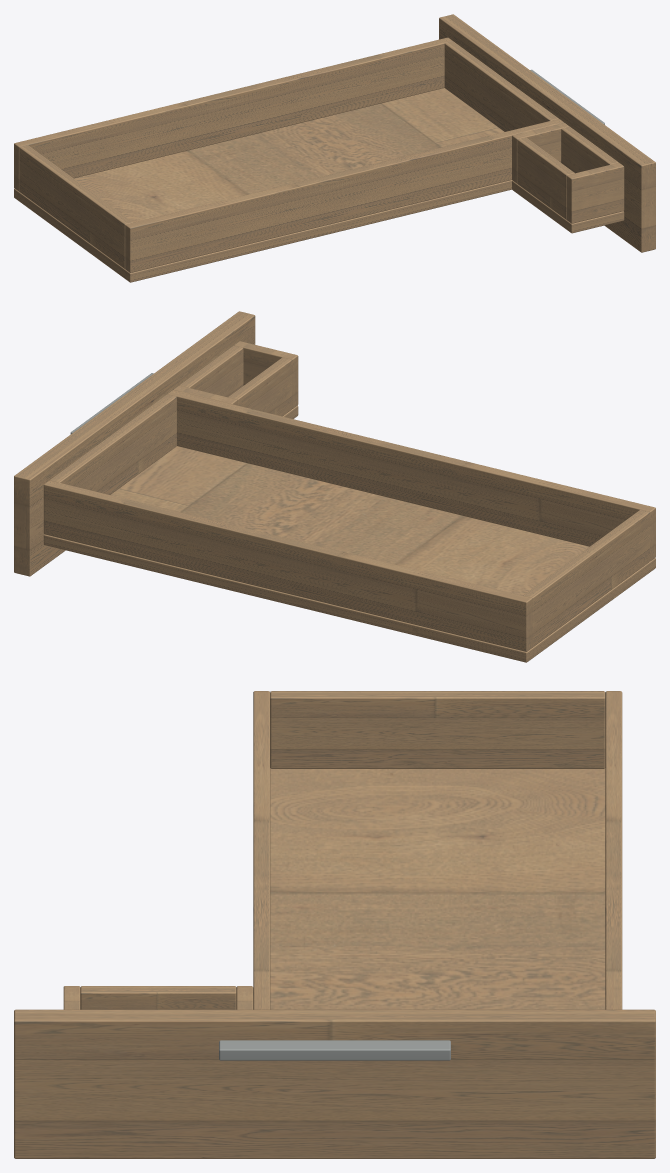
The model's file is kitchen_drawer_2_2.glb.
The picture shows the model from 3 angles, top to bottom: view 1: azimuth 30°, elevation 25°; view 2: azimuth 150°, elevation 25°; view 3: azimuth 270°, elevation 25°; orthographic projection. The views are drawn at different scales.
Parts seen in each view (by area): view 1: kitchen_drawer_2_2, kitchen_drawer_2_2_bin_0_floor, kitchen_drawer_2_2_bin_0_side_-1, kitchen_drawer_2_2_front, kitchen_drawer_2_2_bin_0_end_-1, kitchen_drawer_2_2_bin_1_side_-1, kitchen_drawer_2_2_bin_1_end_-1, kitchen_drawer_2_2_bin_1_floor; view 2: kitchen_drawer_2_2, kitchen_drawer_2_2_bin_0_floor, kitchen_drawer_2_2_bin_0_side_-1, kitchen_drawer_2_2_front, kitchen_drawer_2_2_bin_0_end_-1, kitchen_drawer_2_2_bin_1_end_-1, kitchen_drawer_2_2_bin_1_side_-1; view 3: kitchen_drawer_2_2_front, kitchen_drawer_2_2_bin_0_floor, kitchen_drawer_2_2_bin_0_end_-1, kitchen_drawer_2_2, kitchen_drawer_2_2_bin_0_side_-1, kitchen_drawer_2_2_pull, kitchen_drawer_2_2_bin_1_end_-1.
Boxes of the visible parts, x1,y1,x2,y2 form: kitchen_drawer_2_2: [14, 37, 618, 191]; kitchen_drawer_2_2_bin_0_floor: [14, 88, 512, 282]; kitchen_drawer_2_2_bin_0_side_-1: [125, 119, 563, 272]; kitchen_drawer_2_2_front: [439, 14, 655, 252]; kitchen_drawer_2_2_bin_0_end_-1: [19, 145, 133, 268]; kitchen_drawer_2_2_bin_1_side_-1: [566, 162, 624, 223]; kitchen_drawer_2_2_bin_1_end_-1: [517, 137, 574, 219]; kitchen_drawer_2_2_bin_1_floor: [512, 180, 624, 233]; kitchen_drawer_2_2: [43, 345, 532, 651]; kitchen_drawer_2_2_bin_0_floor: [43, 446, 655, 662]; kitchen_drawer_2_2_bin_0_side_-1: [168, 390, 655, 561]; kitchen_drawer_2_2_front: [14, 311, 255, 576]; kitchen_drawer_2_2_bin_0_end_-1: [523, 509, 649, 647]; kitchen_drawer_2_2_bin_1_end_-1: [228, 357, 292, 416]; kitchen_drawer_2_2_bin_1_side_-1: [234, 341, 298, 408]; kitchen_drawer_2_2_front: [14, 1009, 655, 1158]; kitchen_drawer_2_2_bin_0_floor: [270, 768, 605, 1009]; kitchen_drawer_2_2_bin_0_end_-1: [270, 691, 605, 768]; kitchen_drawer_2_2: [236, 691, 622, 1009]; kitchen_drawer_2_2_bin_0_side_-1: [253, 691, 270, 1009]; kitchen_drawer_2_2_pull: [219, 1040, 450, 1060]; kitchen_drawer_2_2_bin_1_end_-1: [80, 986, 236, 1009].
Bounding box in the file's own units: 0.806 × 0.145 × 0.609.
Materials: 2 (1 with a texture image).
